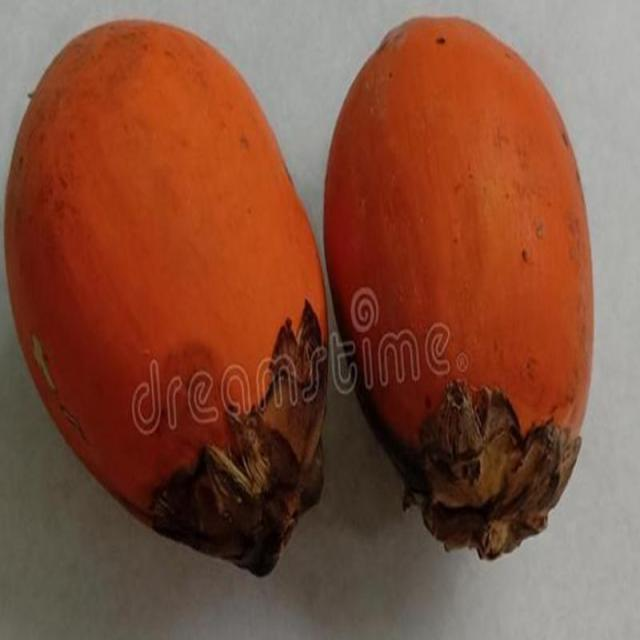good: (4, 19, 331, 580), (323, 15, 596, 564)
